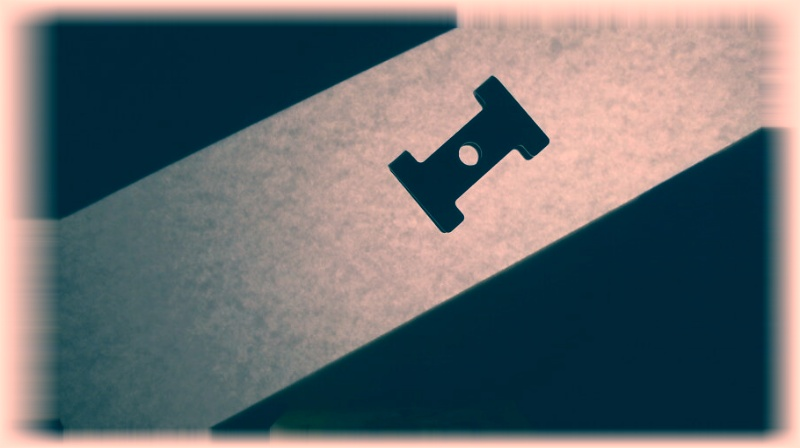O002: (384, 73, 552, 234)
